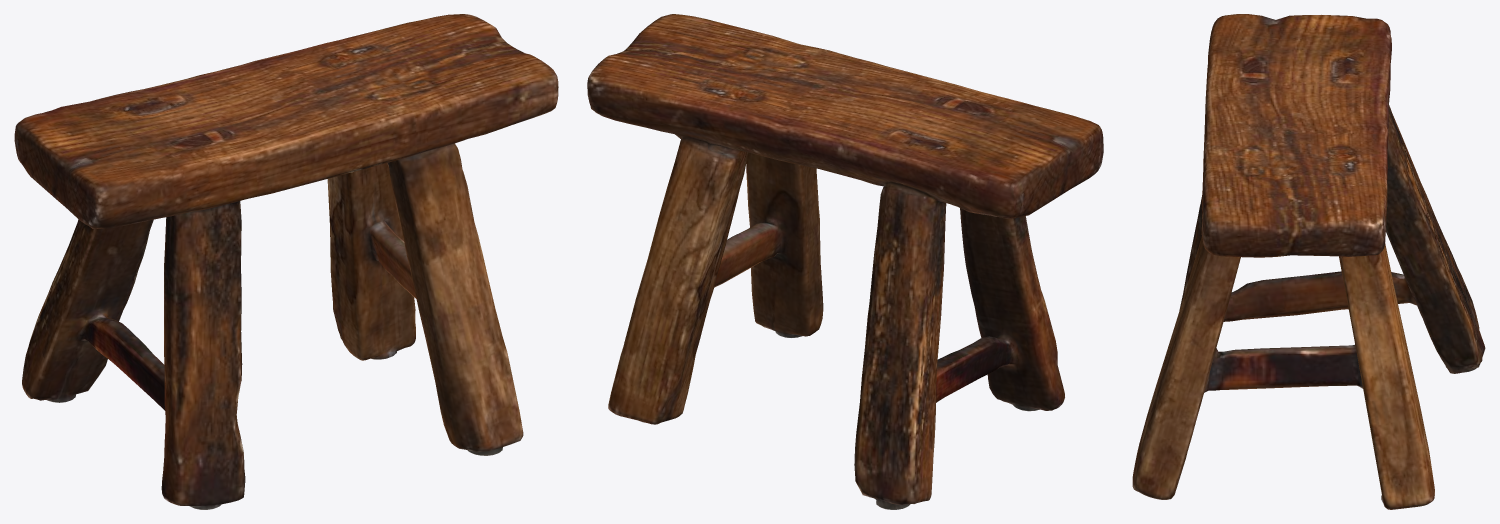
The model's file is wooden_stool_02.glb.
3 renders of one model, left to right at view 1: azimuth 30°, elevation 25°; view 2: azimuth 150°, elevation 25°; view 3: azimuth 270°, elevation 25°, orthographic. The views are drawn at different scales.
Parts seen in each view (by area): view 1: wooden_stool_02; view 2: wooden_stool_02; view 3: wooden_stool_02.
Part boxes in pixels (left/top/right/bottom): wooden_stool_02: left=14, top=14, right=558, bottom=509; wooden_stool_02: left=587, top=14, right=1103, bottom=509; wooden_stool_02: left=1132, top=14, right=1485, bottom=509.
Size of the model in its own units: 0.2652 by 0.1819 by 0.1831.
Materials: 1 (1 with a texture image).
